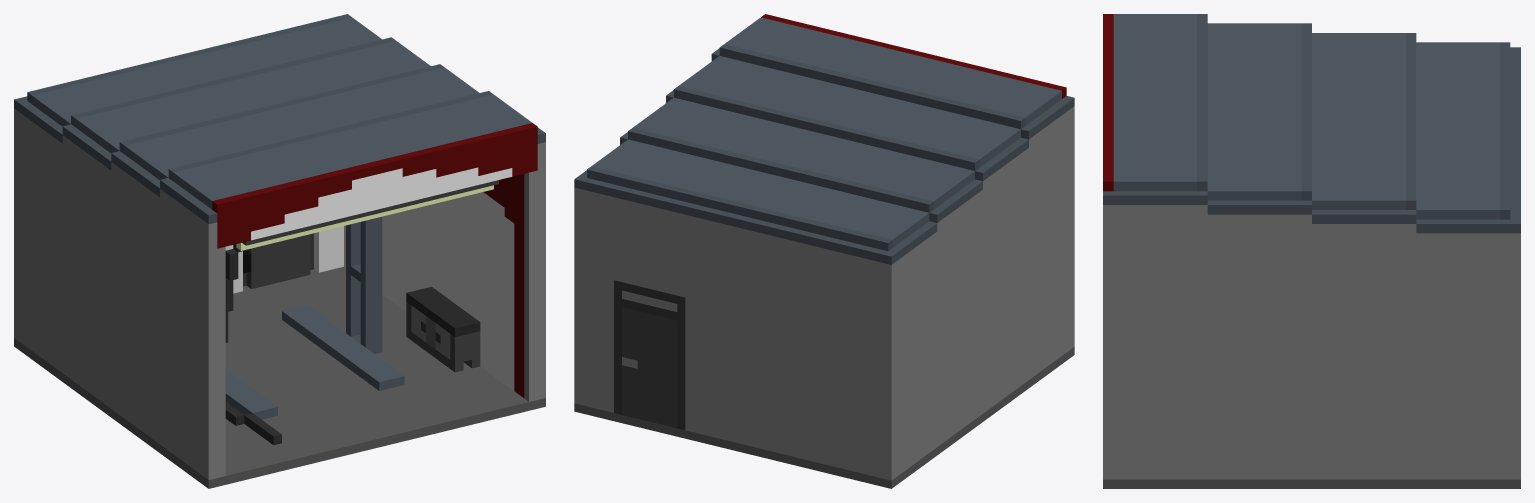
The model's file is prop_pitstop_t1.obj.
3 views of the same model, side by side, from view 1: azimuth 30°, elevation 25°; view 2: azimuth 150°, elevation 25°; view 3: azimuth 270°, elevation 25° (orthographic). The views are drawn at different scales.
Bounding box in the file's own units: 4 × 3.2 × 4.
Materials: 1 (1 with a texture image).
